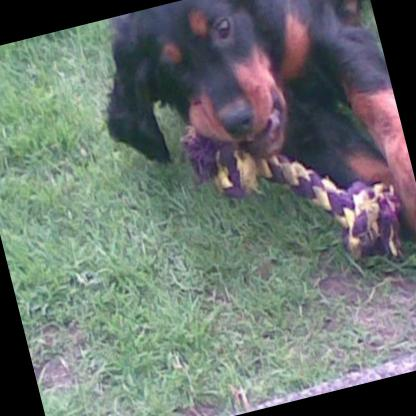Gordon_setter: (80, 0, 416, 314)
